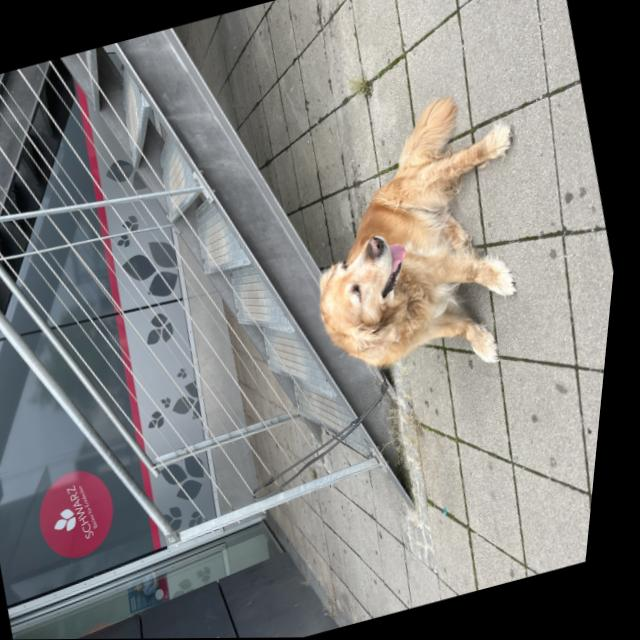dog-golden_retriever: (297, 223, 432, 361)
